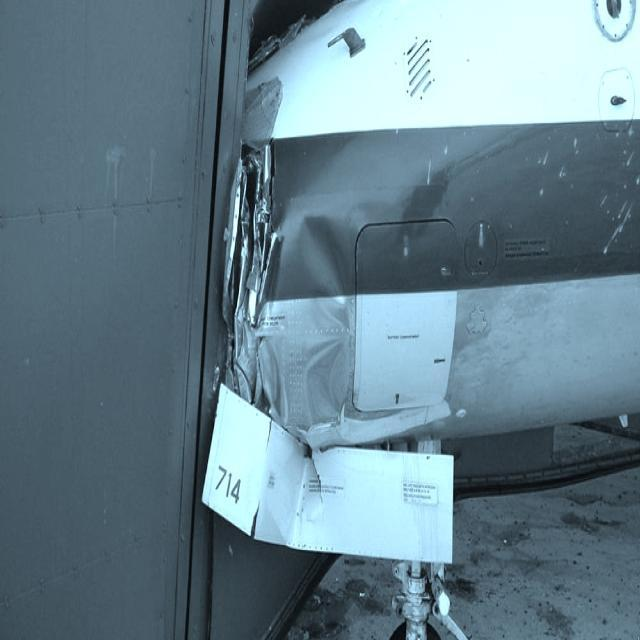dent: (300, 216, 348, 436)
